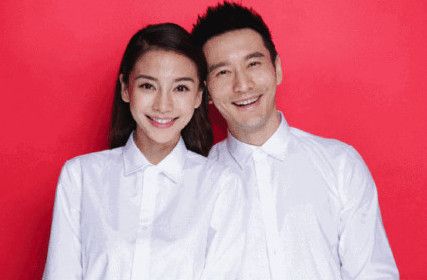unmask: (201, 43, 290, 124), (134, 53, 196, 131)
